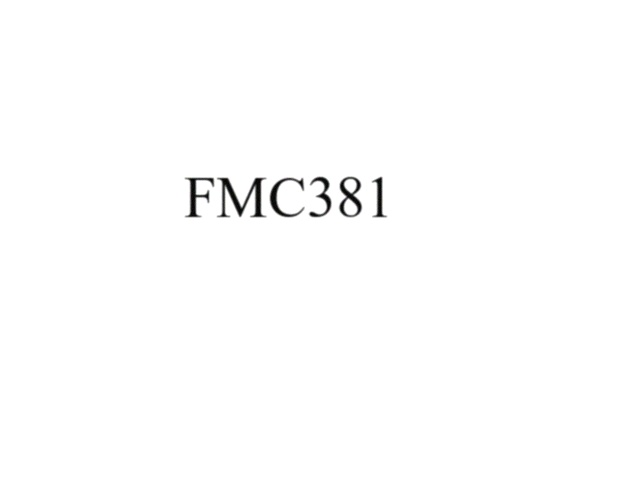OCR_AREA: (180, 173, 398, 221)
